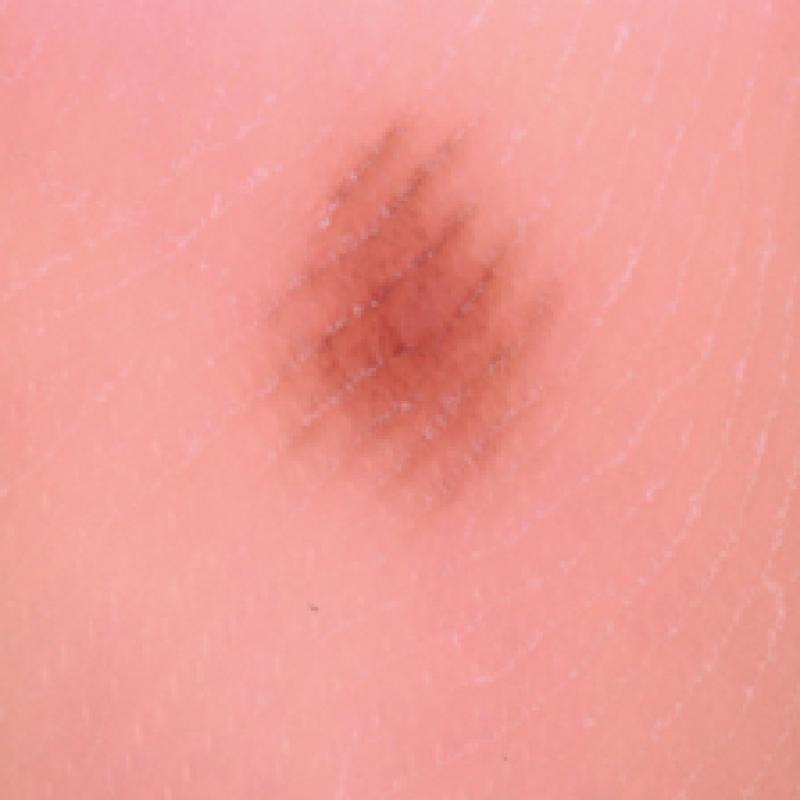benign: (250, 101, 578, 541)
